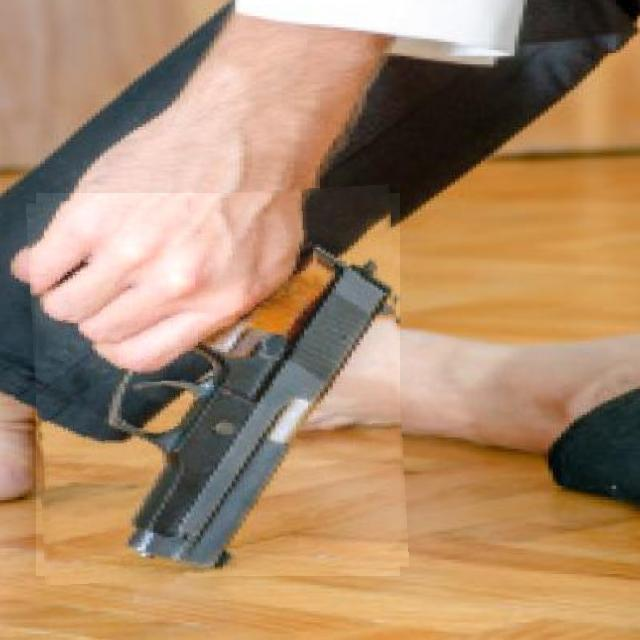handgun: (31, 188, 405, 580)
